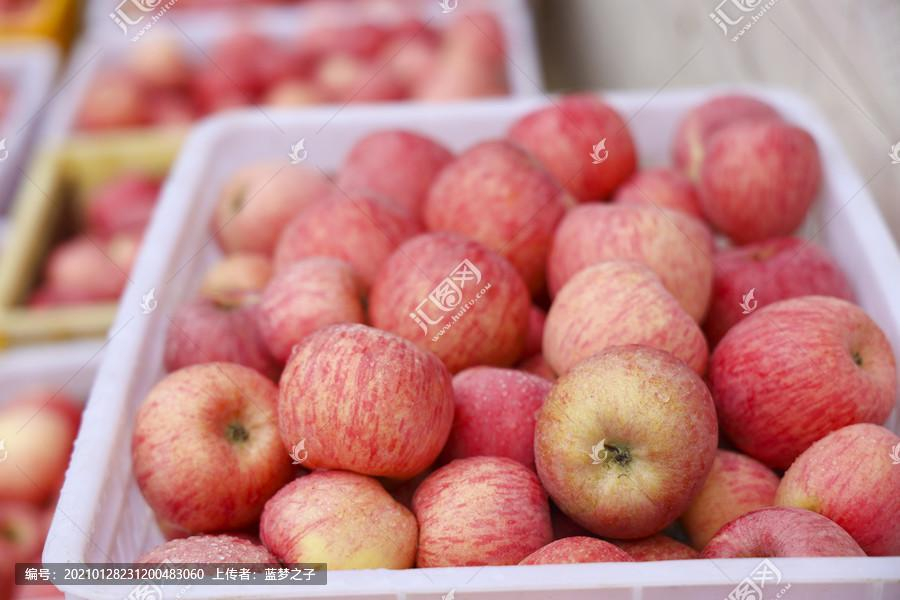apple: (537, 343, 720, 537), (711, 293, 900, 456), (128, 359, 291, 539), (276, 323, 457, 474), (367, 232, 537, 365), (422, 138, 567, 291), (546, 195, 717, 315), (538, 262, 711, 374), (773, 419, 899, 561), (256, 469, 417, 569), (410, 456, 551, 566), (705, 235, 857, 335), (507, 96, 635, 206), (445, 365, 554, 456)
